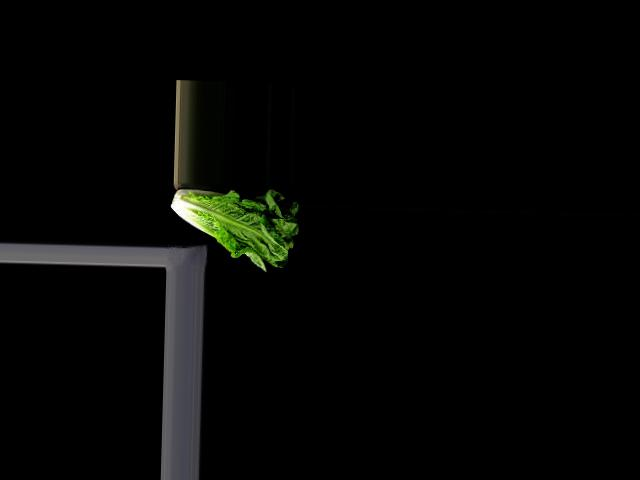lettuce: (167, 186, 302, 271)
